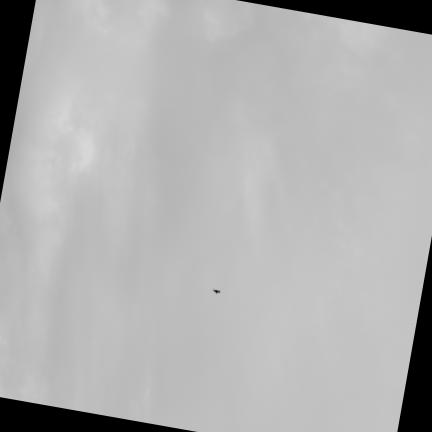Shahed: (212, 289, 220, 294)
